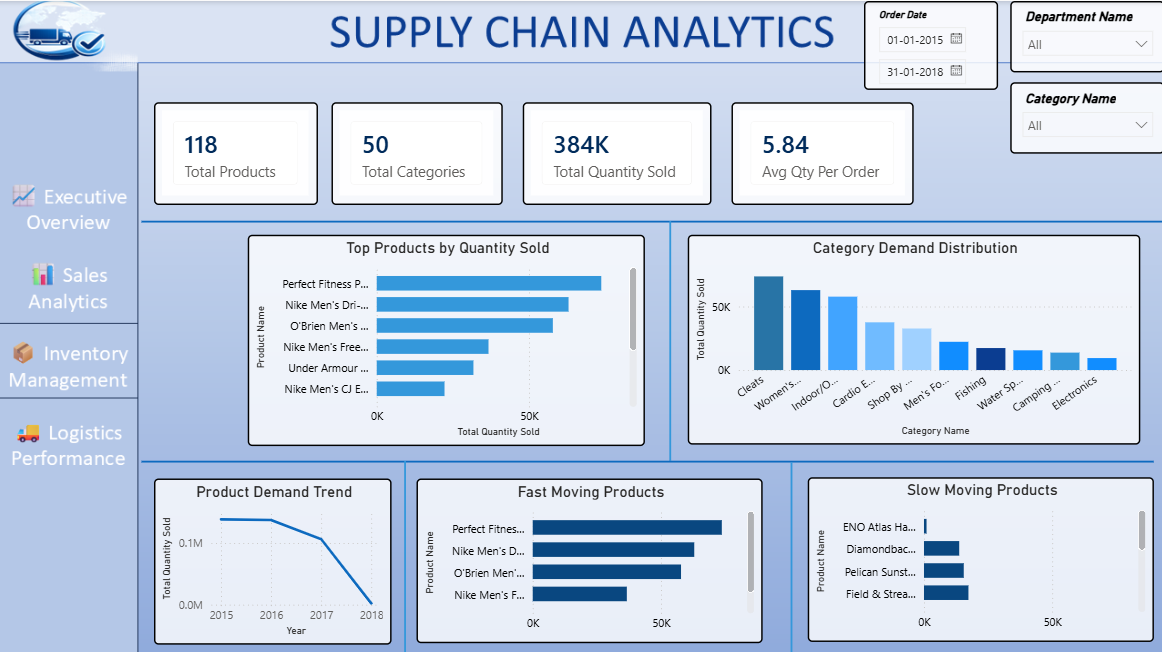

Layout of this report page (visuals, bound fields, positions):
{"tool":"powerbi","page":{"name":"Inventory Management ","canvas":[1280,720],"ordinal":2},"visuals":[{"type":"cardVisual","fields":{"Data":["Dim_Customer.Total Products"]},"box":[170.2,111.1,179.8,112.5],"z":6000},{"type":"cardVisual","fields":{"Data":["Measures (2).Total Categories"]},"box":[365,111.1,188,112.5],"z":7000},{"type":"cardVisual","fields":{"Data":["Measures (2).Total Quantity Sold"]},"box":[575,111.1,207.2,112.5],"z":8000},{"type":"cardVisual","fields":{"Data":["Measures (2).Avg Qty Per Order"]},"box":[804.1,111.1,200.3,112.5],"z":9000},{"type":"shape","box":[156.4,223.7,1123.8,37],"z":10000},{"type":"clusteredBarChart","title":"Top Products by Quantity Sold","fields":{"Category":["Dim_Product.Product Name"],"Y":["Measures (2).Total Quantity Sold"]},"box":[273.1,256.6,436.4,231.9],"z":11000},{"type":"shape","box":[705.3,241.5,63.1,263.5],"z":12000},{"type":"columnChart","title":"Category Demand Distribution","fields":{"Category":["Dim_Product.Category Name"],"Y":["Measures (2).Total Quantity Sold"]},"box":[756.1,256.6,496.7,230.5],"z":13000},{"type":"shape","box":[156.4,487.1,1111.5,37],"z":14000},{"type":"lineChart","title":"Product Demand Trend","fields":{"Category":["Dim_Date.order date (DateOrders).Variation.Date Hierarchy.Year","Dim_Date.order date (DateOrders).Variation.Date Hierarchy.Quarter","Dim_Date.order date (DateOrders).Variation.Date Hierarchy.Month","Dim_Date.order date (DateOrders).Variation.Date Hierarchy.Day"],"Y":["Measures (2).Total Quantity Sold"]},"box":[170.2,524.2,260.7,182.5],"z":15000},{"type":"shape","box":[413.8,505.5,62.7,214.7],"z":16000},{"type":"clusteredBarChart","title":"Fast Moving Products","fields":{"Y":["Measures (2).Total Quantity Sold"],"Category":["Dim_Product.Product Name"]},"box":[458.3,524.2,380.1,181.1],"z":17000},{"type":"shape","box":[838.4,506.3,63.1,214.1],"z":18000},{"type":"clusteredBarChart","title":"Slow Moving Products","fields":{"Y":["Measures (2).Total Quantity Sold"],"Category":["Dim_Product.Product Name"]},"box":[887.8,522.8,380.1,181.1],"z":19000},{"type":"slicer","fields":{"Values":["Dim_Date.order date (DateOrders)"]},"box":[949.6,0,146.8,97.4],"z":20000},{"type":"slicer","fields":{"Values":["Dim_Product.Department Name"]},"box":[1110.1,0,170.2,78.2],"z":21000},{"type":"slicer","fields":{"Values":["Dim_Product.Category Name"]},"box":[1110.1,89.2,170.2,78.2],"z":22000},{"type":"actionButton","box":[19.2,277.2,119.4,67.2],"z":22001},{"type":"actionButton","box":[11,188,135.8,82.3],"z":22002},{"type":"actionButton","box":[9.6,465.2,137.2,83.7],"z":22003}]}

Visuals, with their boxes in screenshot pixels (x1, y1, x2, y2):
cardVisual - Dim_Customer.Total Products: l=158, t=102, r=318, b=202
cardVisual - Measures (2).Total Categories: l=331, t=102, r=499, b=202
cardVisual - Measures (2).Total Quantity Sold: l=518, t=102, r=703, b=202
cardVisual - Measures (2).Avg Qty Per Order: l=723, t=102, r=901, b=202
shape: l=145, t=202, r=1147, b=235
"Top Products by Quantity Sold" clusteredBarChart: l=249, t=232, r=638, b=438
shape: l=635, t=218, r=691, b=453
"Category Demand Distribution" columnChart: l=680, t=232, r=1122, b=437
shape: l=145, t=437, r=1136, b=470
"Product Demand Trend" lineChart: l=158, t=470, r=390, b=633
shape: l=375, t=453, r=431, b=645
"Fast Moving Products" clusteredBarChart: l=414, t=470, r=753, b=632
shape: l=753, t=454, r=809, b=645
"Slow Moving Products" clusteredBarChart: l=797, t=469, r=1136, b=630
slicer - Dim_Date.order date (DateOrders): l=852, t=3, r=983, b=90
slicer - Dim_Product.Department Name: l=995, t=3, r=1147, b=73
slicer - Dim_Product.Category Name: l=995, t=83, r=1147, b=152
actionButton: l=23, t=250, r=130, b=310
actionButton: l=16, t=171, r=137, b=244
actionButton: l=15, t=418, r=137, b=492
